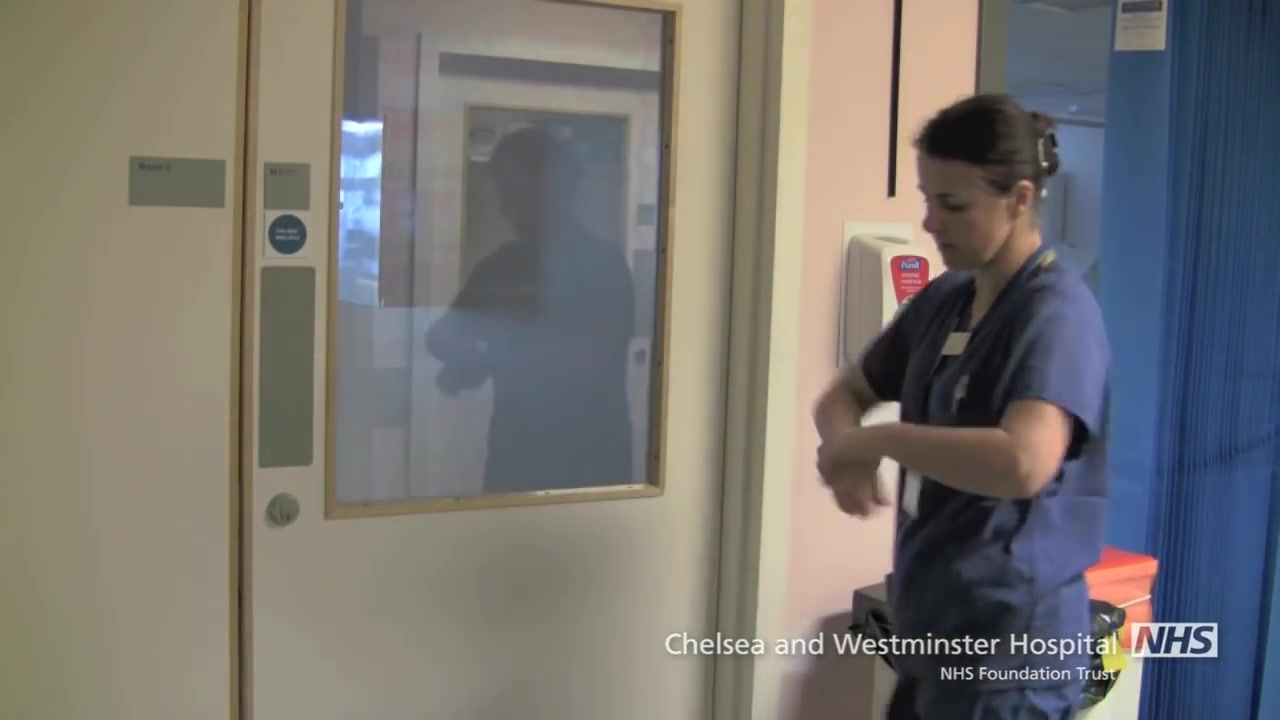curtain: (1100, 1, 1280, 720)
dispenser: (845, 217, 935, 381)
staff: (810, 90, 1116, 720)
waste_bin: (851, 587, 1127, 720), (1083, 544, 1161, 720)
